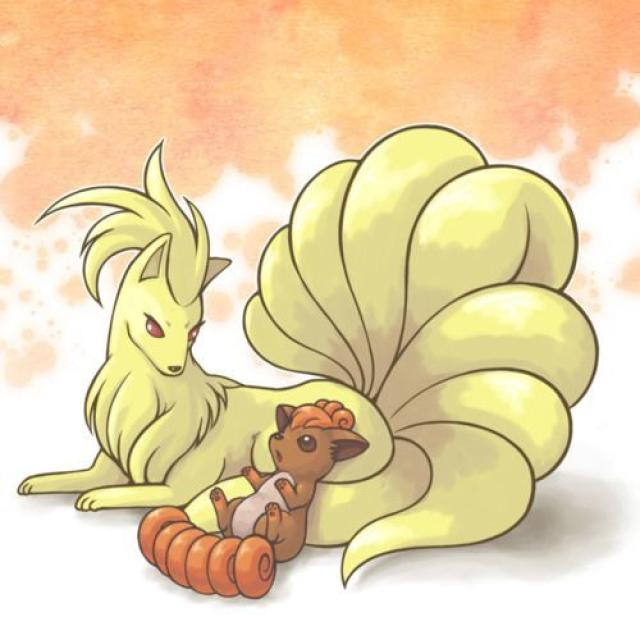Ninetales: (19, 123, 598, 551)
Vulpix: (117, 403, 363, 592)
